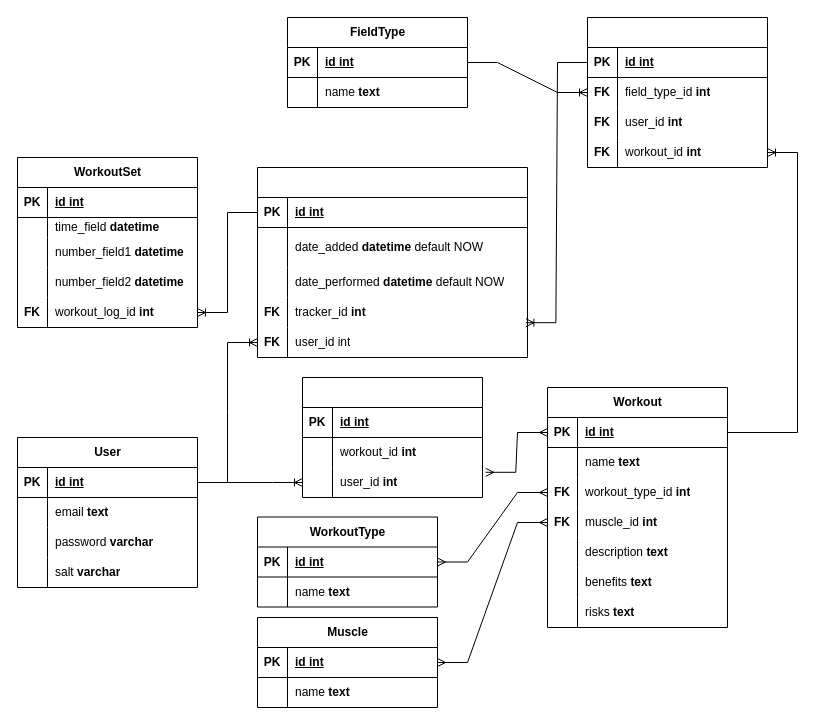
Some shapes in this 823 by 725 pixel diagram are drawn without their labels. Here are the shapes that lost their labels. From the top down, the box of each, then its label:
(586, 16, 768, 168): Tracker
(256, 166, 528, 358): WorkoutLog
(302, 376, 482, 498): WorkoutList
